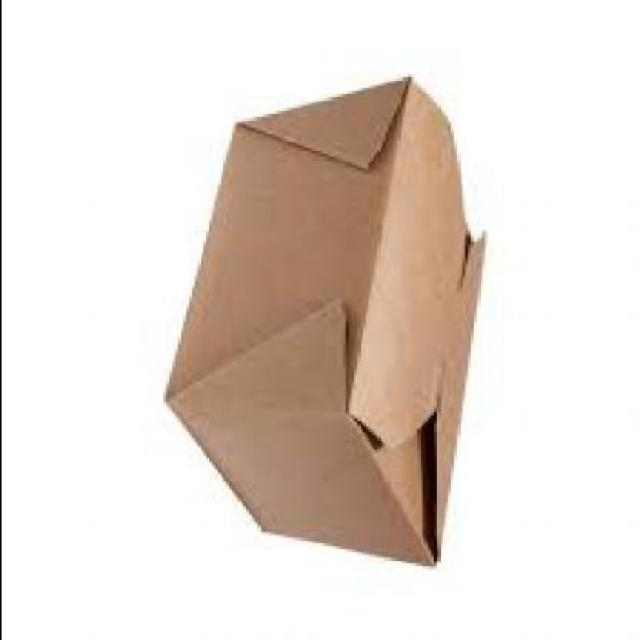CARDBOARD: (165, 79, 486, 572)
